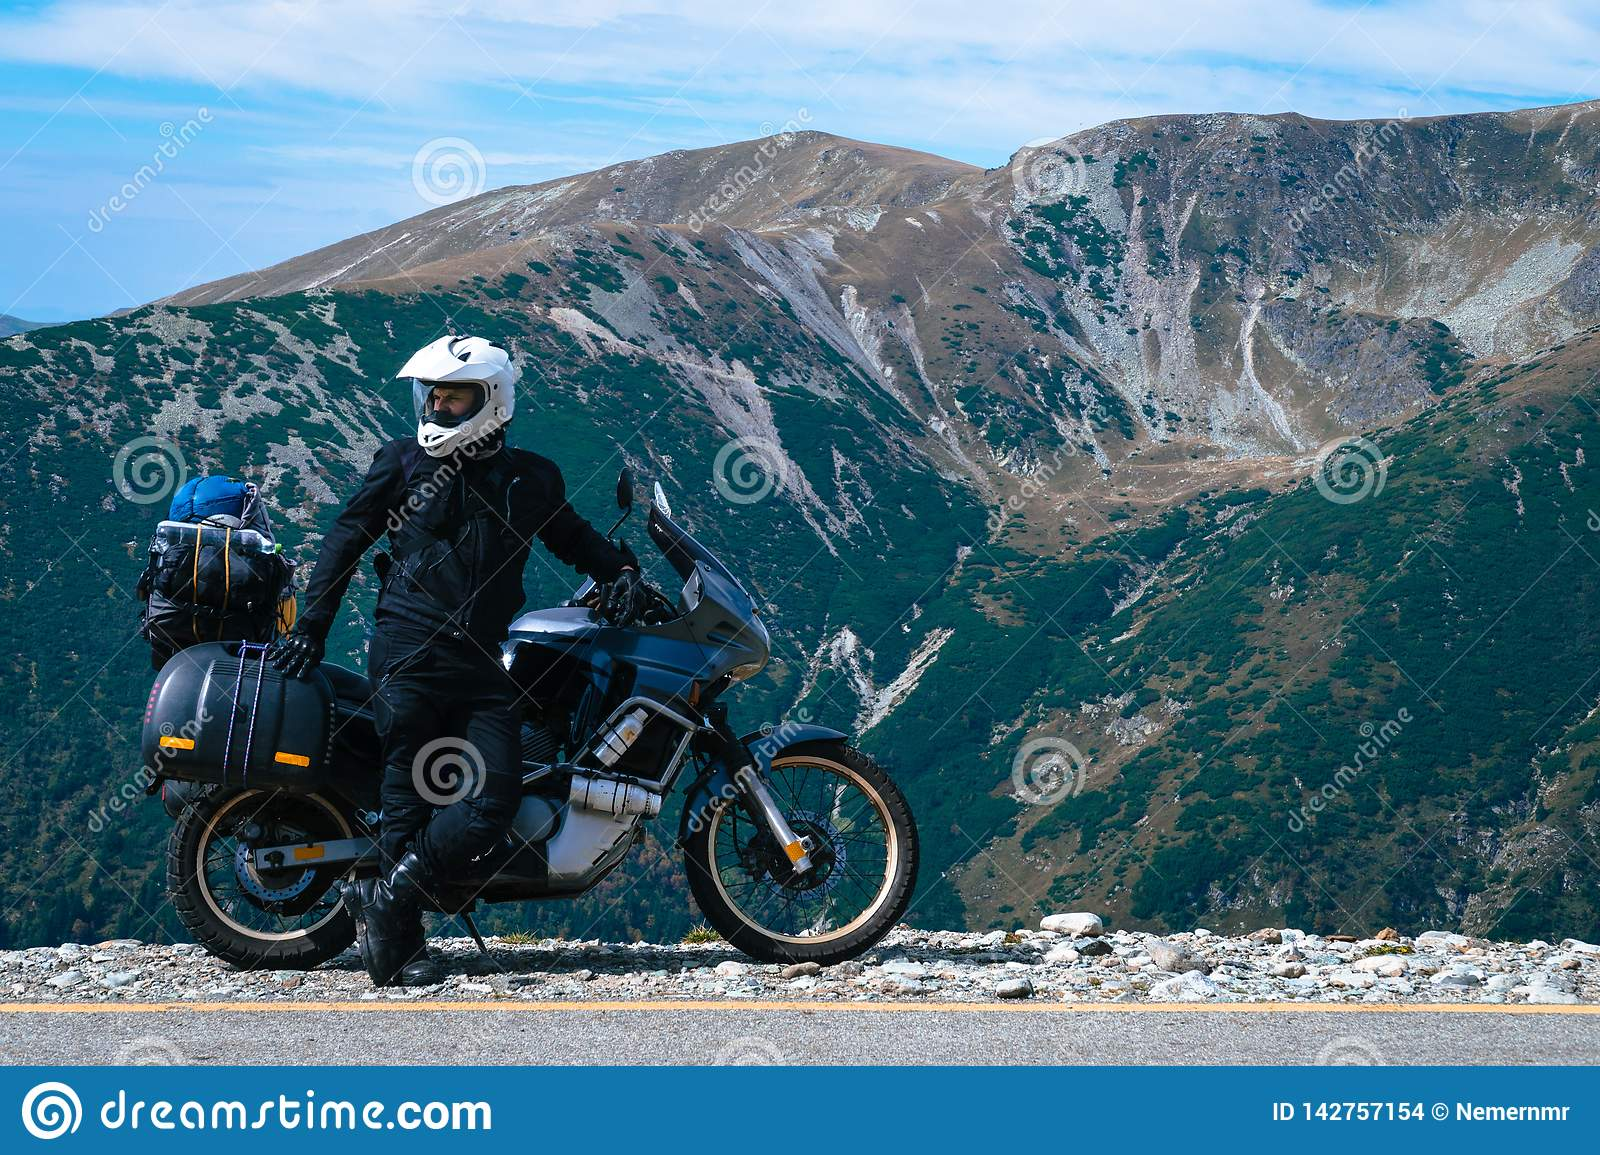helmet: (401, 327, 528, 460)
